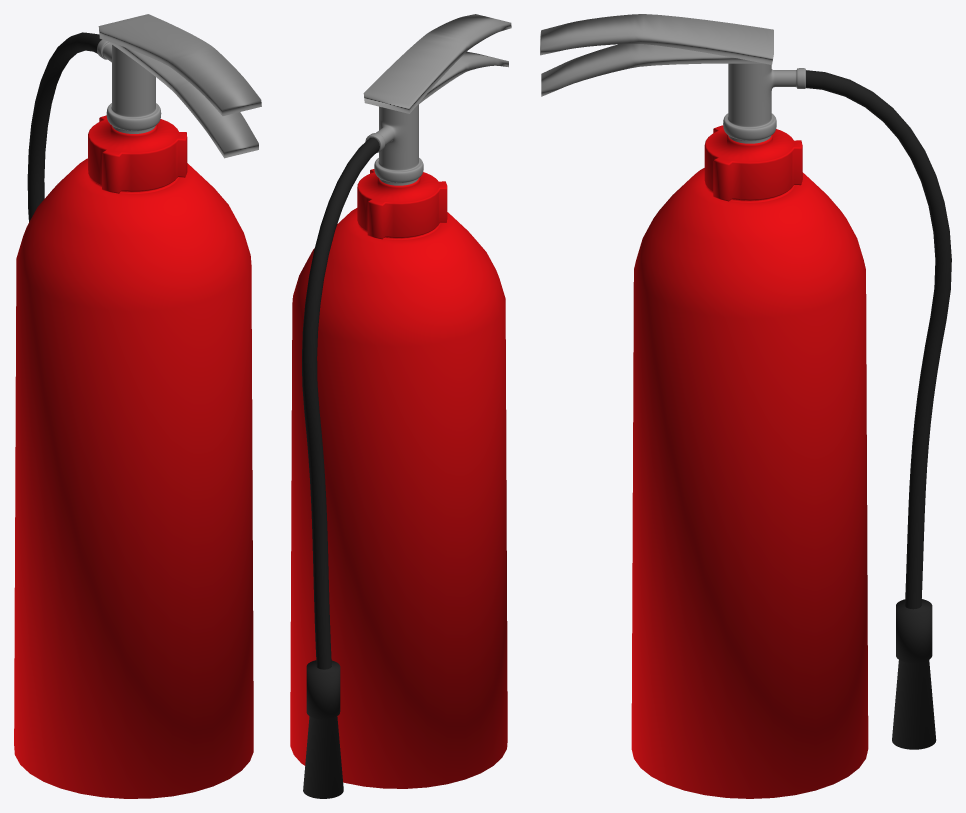
The model's file is prop s jam extincteur.fbx.
3 views of the same model, side by side, from view 1: azimuth 30°, elevation 25°; view 2: azimuth 150°, elevation 25°; view 3: azimuth 270°, elevation 25° (orthographic). The views are drawn at different scales.
Visible parts, largest first — view 1: Sphere, Cube.002, Cylinder.004, Cube.001, BézierCurve; view 2: Sphere, BézierCurve, Cube.002, Cylinder.005, Cylinder.004, Cube.001; view 3: Sphere, BézierCurve, Cube.002, Cylinder.005, Cylinder.004, Cube.001.
Boxes of the visible parts, left/top/right/bottom form: Sphere: left=14, top=115, right=253, bottom=798; Cube.002: left=98, top=14, right=261, bottom=115; Cylinder.004: left=97, top=39, right=161, bottom=133; Cube.001: left=108, top=41, right=258, bottom=158; BézierCurve: left=27, top=32, right=101, bottom=222; Sphere: left=290, top=169, right=507, bottom=788; BézierCurve: left=302, top=137, right=379, bottom=669; Cube.002: left=363, top=14, right=511, bottom=113; Cylinder.005: left=303, top=660, right=343, bottom=798; Cylinder.004: left=365, top=104, right=423, bottom=185; Cube.001: left=417, top=51, right=508, bottom=105; Sphere: left=631, top=125, right=868, bottom=798; BézierCurve: left=806, top=70, right=951, bottom=609; Cube.002: left=540, top=14, right=773, bottom=64; Cylinder.005: left=892, top=599, right=936, bottom=749; Cylinder.004: left=723, top=63, right=805, bottom=143; Cube.001: left=541, top=44, right=763, bottom=96.
Size of the model in its own units: 67.7 by 229 by 118.
